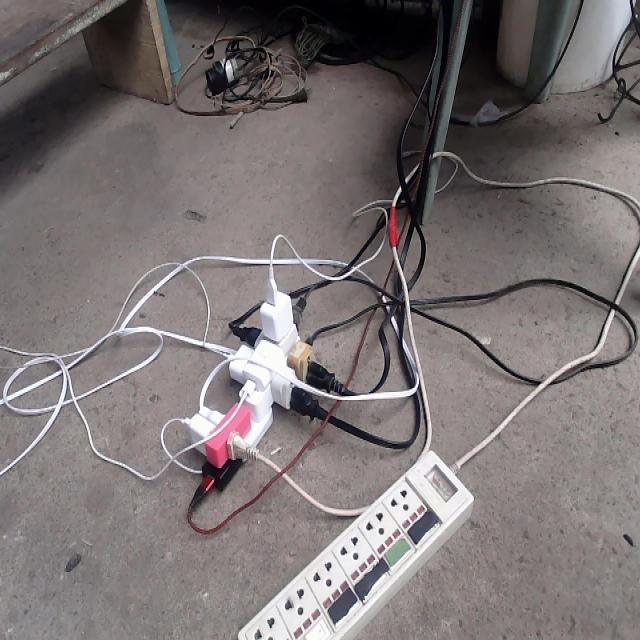-: (172, 247, 339, 505)
